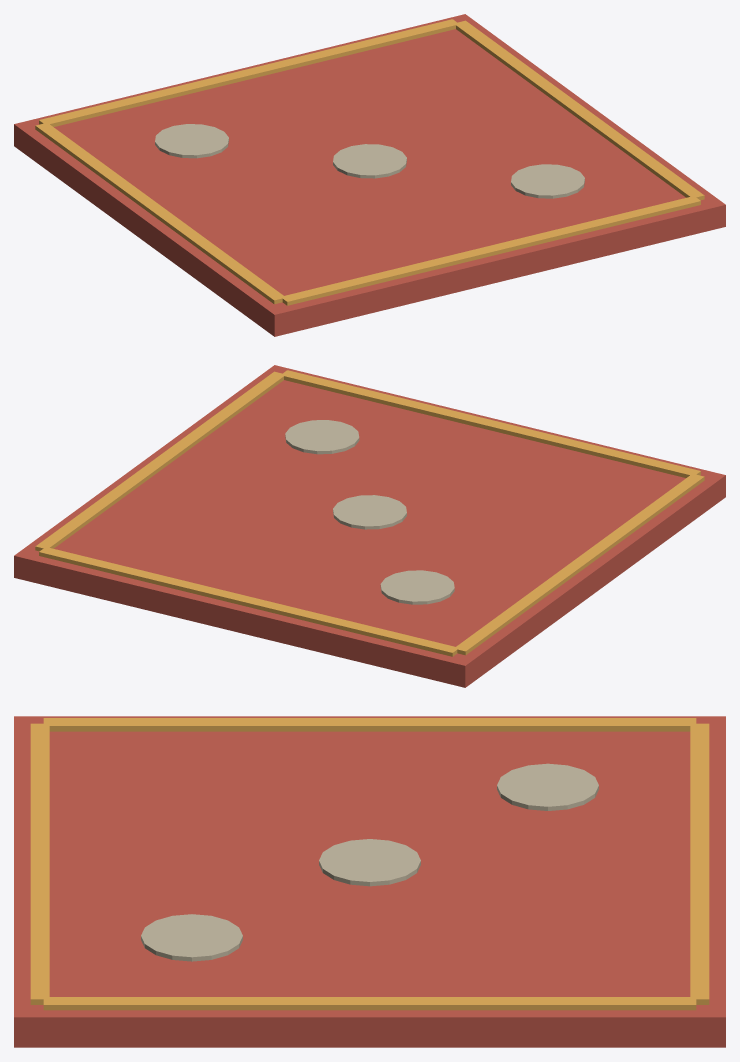
File: space_die_coral_face_3.glb
3 renders of one model, top to bottom at view 1: azimuth 30°, elevation 25°; view 2: azimuth 150°, elevation 25°; view 3: azimuth 270°, elevation 25°, orthographic. The views are drawn at different scales.
Parts seen in each view (by area): view 1: FixedDetails, BrassTrim; view 2: FixedDetails, BrassTrim; view 3: FixedDetails, BrassTrim.
Boxes of the visible parts, bbox=[...] form: FixedDetails: bbox=[14, 14, 725, 336]; BrassTrim: bbox=[35, 19, 704, 305]; FixedDetails: bbox=[14, 365, 725, 687]; BrassTrim: bbox=[35, 370, 704, 656]; FixedDetails: bbox=[14, 716, 725, 1047]; BrassTrim: bbox=[30, 718, 709, 1010].
Bounding box in the file's own units: 0.6 × 0.034 × 0.6.
